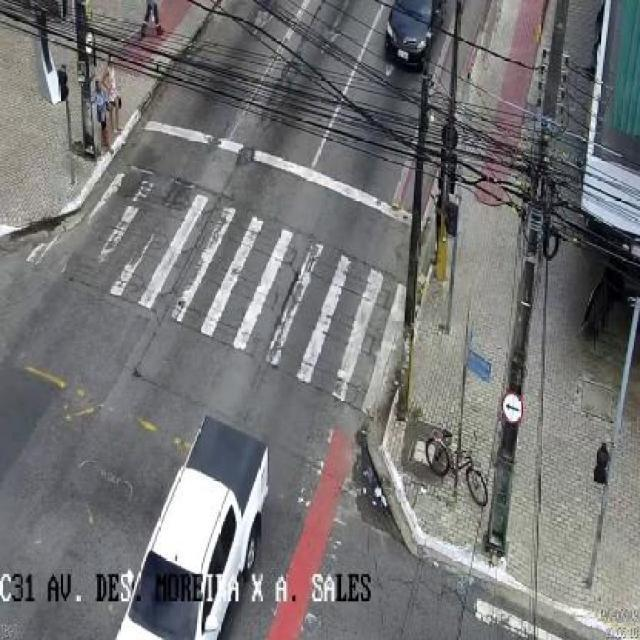Car: (96, 403, 271, 640), (379, 0, 453, 72)
Cycle: (417, 424, 494, 510)
